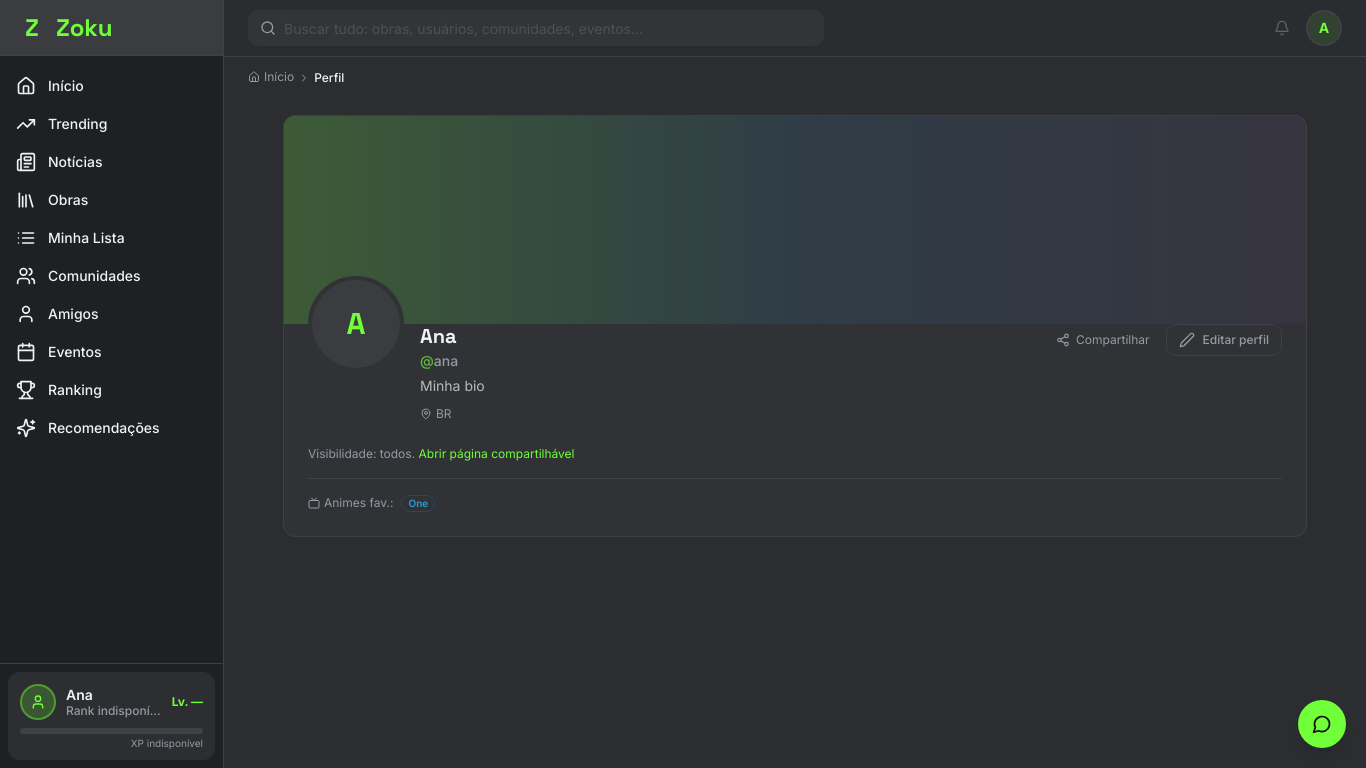
it: server conflict keeps editor open and does not report success
Click the button "Editar perfil".
click(1224, 340)  # box [1166,324,1282,356]
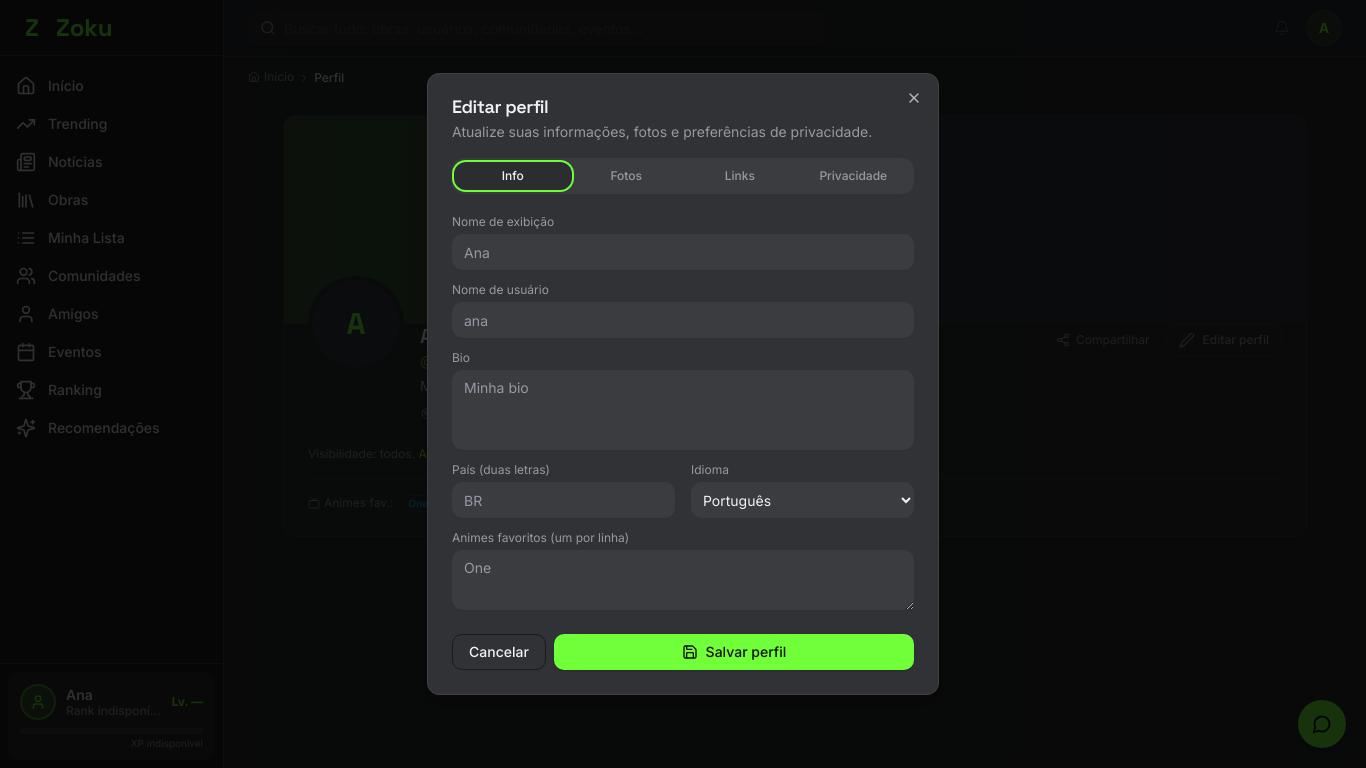
Click the button "Salvar perfil".
click(734, 652)  # box [554,634,914,670]
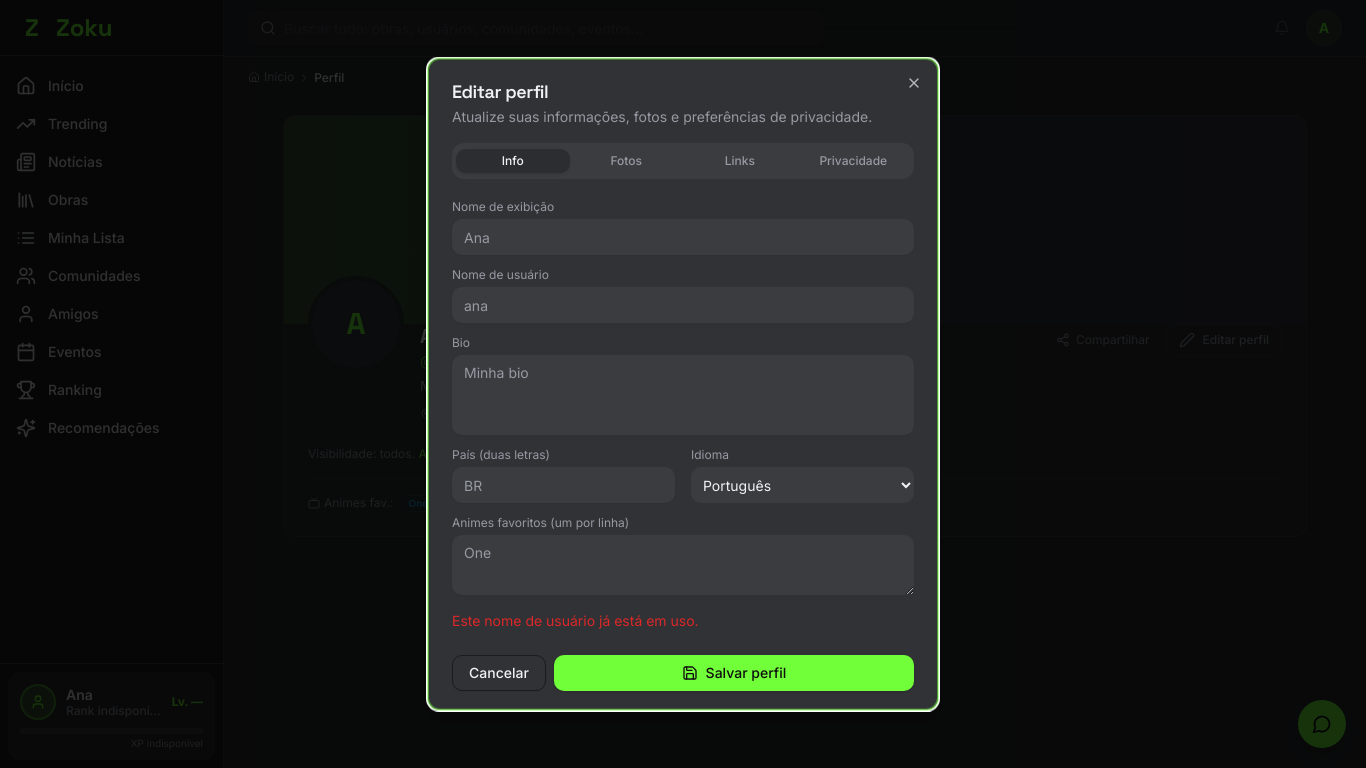
Now the dialog is shown, box [427,58,939,710]
Now the message reads "Este nome de usuário já está em uso.", box [452,612,699,629]
